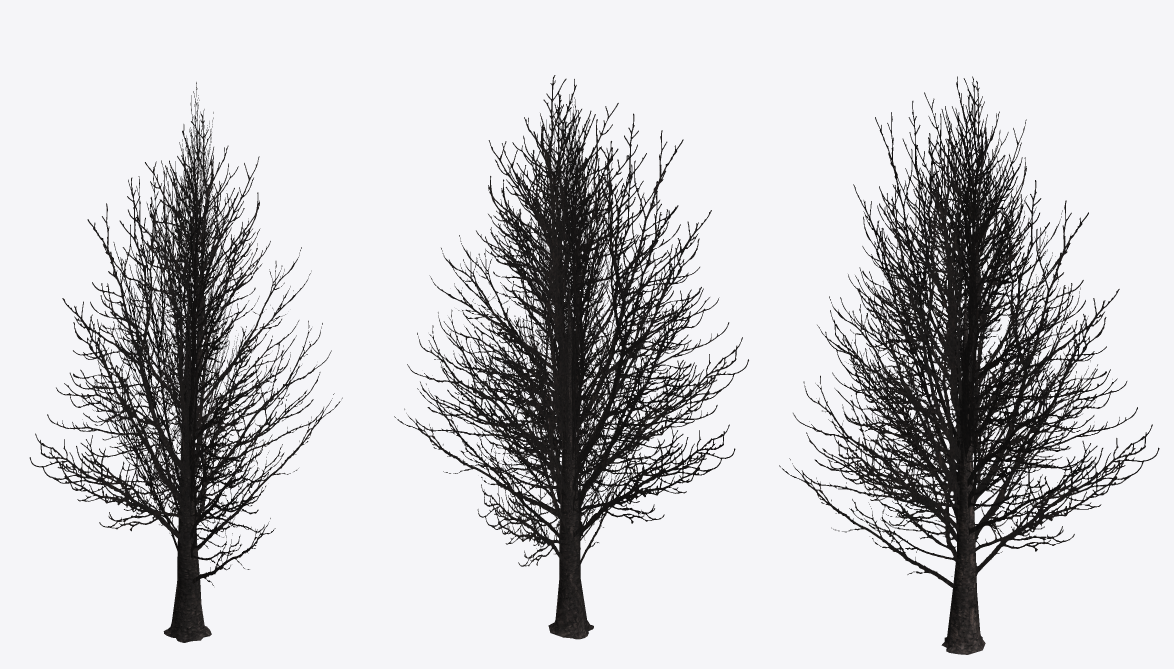
Rendered from dead_tree_rt_1.obj.
3 renders of one model, left to right at view 1: azimuth 30°, elevation 25°; view 2: azimuth 150°, elevation 25°; view 3: azimuth 270°, elevation 25°, orthographic. The views are drawn at different scales.
Parts seen in each view (by area): view 1: dead_tree_rt_1; view 2: dead_tree_rt_1; view 3: dead_tree_rt_1.
Boxes of the visible parts, left/top/right/bottom form: dead_tree_rt_1: left=29, top=82, right=342, bottom=642; dead_tree_rt_1: left=394, top=75, right=748, bottom=639; dead_tree_rt_1: left=779, top=76, right=1159, bottom=654.
Size of the model in its own units: 3.97 by 6.58 by 3.97.
